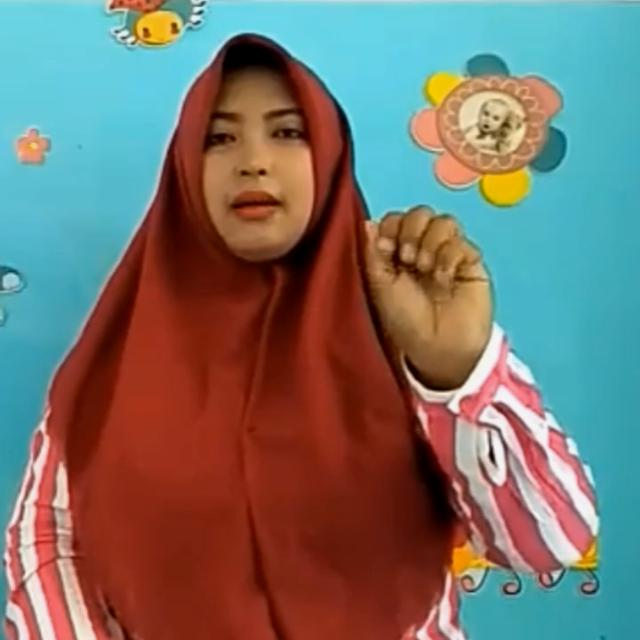B: (363, 204, 495, 364)
